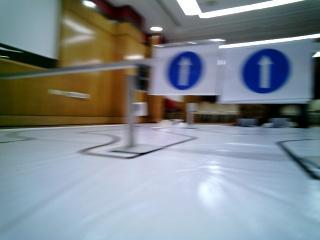straight: (220, 53, 311, 103), (150, 51, 211, 92)
